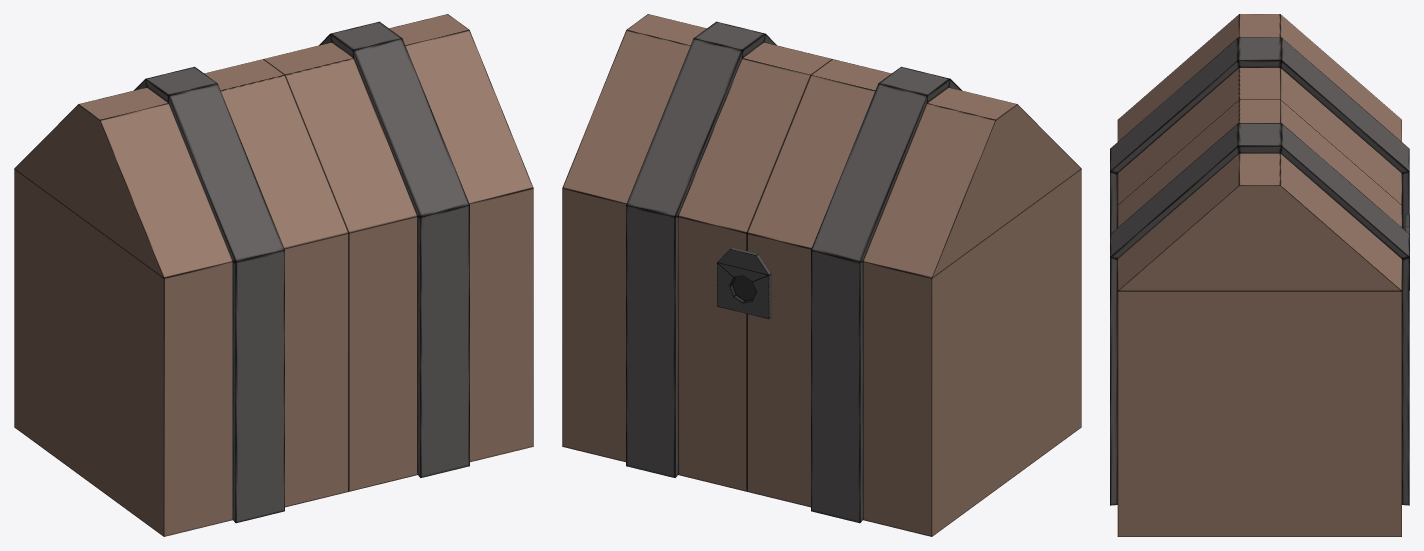
The model's file is TreasureChest.glb.
The picture shows the model from 3 angles, left to right: view 1: azimuth 30°, elevation 25°; view 2: azimuth 150°, elevation 25°; view 3: azimuth 270°, elevation 25°; orthographic projection. The views are drawn at different scales.
Parts seen in each view (by area): view 1: Chest; view 2: Chest; view 3: Chest.
Boxes of the visible parts, x1,y1,x2,y2 form: Chest: [14, 14, 533, 536]; Chest: [562, 14, 1081, 536]; Chest: [1110, 14, 1409, 536].
Bounding box in the file's own units: 1.42 × 1.39 × 1.05.
1 material, 1 textured.
